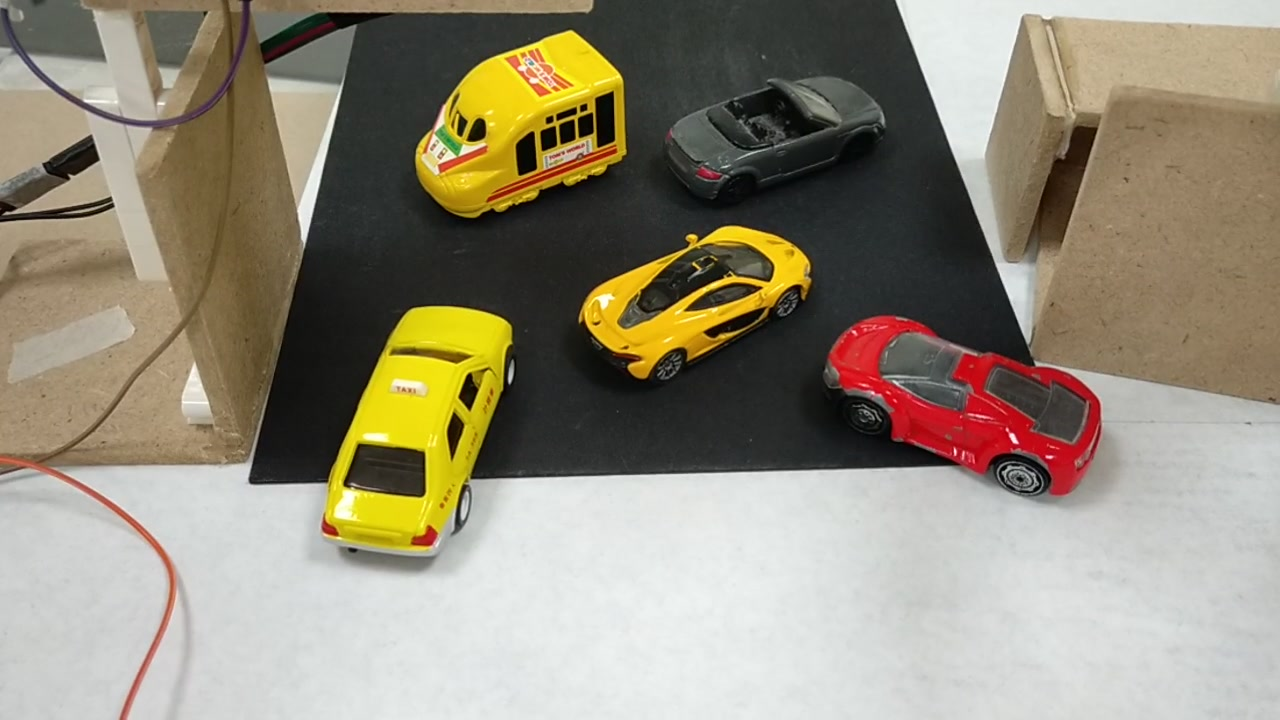car: (321, 312, 520, 558), (828, 315, 1095, 494), (575, 219, 809, 372), (647, 70, 890, 192)
